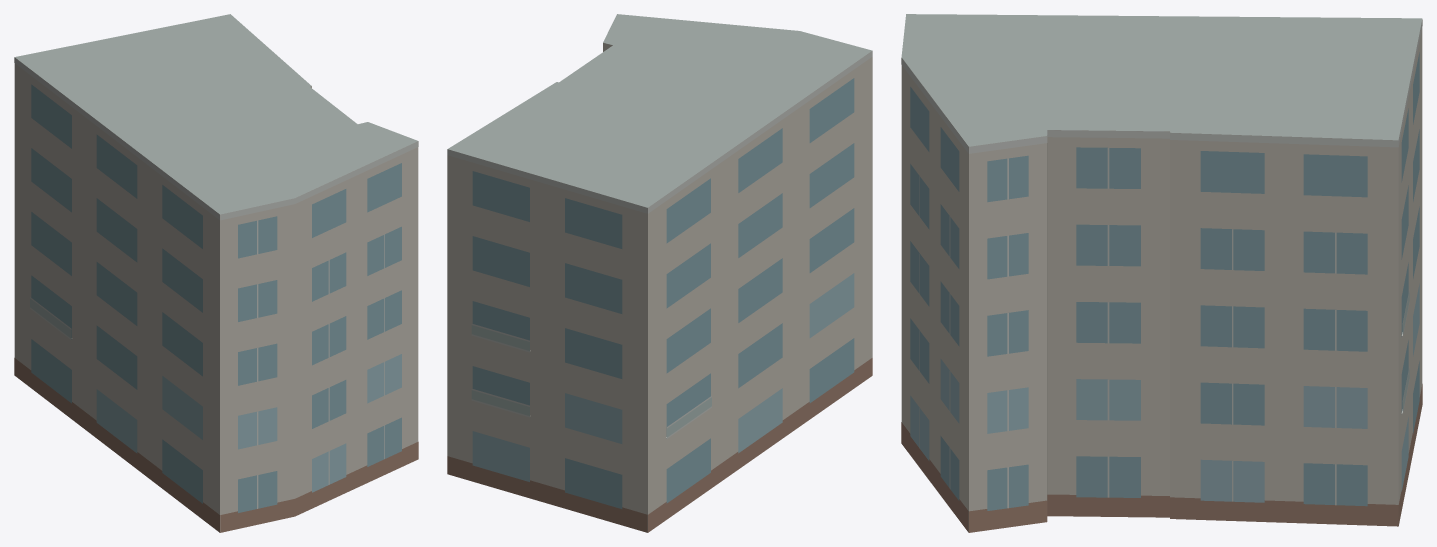
File: survey-upis-32899517.glb
3 views of the same model, side by side, from view 1: azimuth 30°, elevation 25°; view 2: azimuth 150°, elevation 25°; view 3: azimuth 270°, elevation 25° (orthographic). The views are drawn at different scales.
Visible parts, largest first — view 1: survey-upis-32899517.tmp; view 2: survey-upis-32899517.tmp; view 3: survey-upis-32899517.tmp.
Part boxes in pixels (bbox=[...]): survey-upis-32899517.tmp: bbox=[14, 14, 418, 532]; survey-upis-32899517.tmp: bbox=[447, 14, 872, 532]; survey-upis-32899517.tmp: bbox=[901, 14, 1422, 532].
Size of the model in its own units: 9.74 by 13.2 by 16.15.
